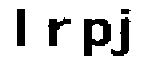j: (110, 6, 138, 59)
l: (9, 4, 31, 50)
p: (78, 15, 110, 60)
r: (45, 15, 69, 51)
